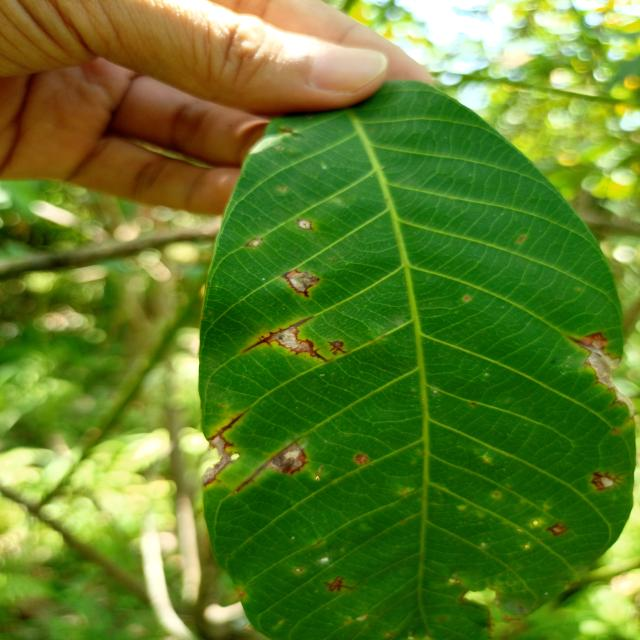Corynespora: (231, 435, 308, 492), (238, 315, 329, 362), (206, 409, 248, 447), (568, 332, 608, 356), (281, 272, 309, 298), (592, 470, 626, 491), (322, 576, 354, 594), (328, 338, 347, 354)
